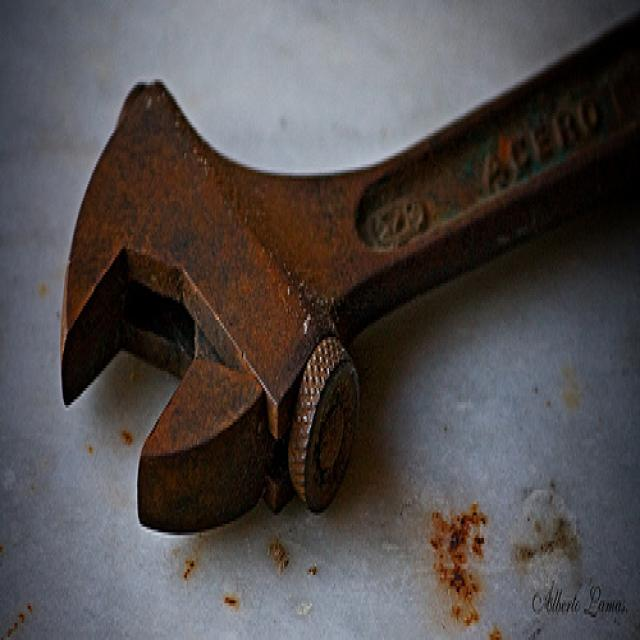wrench: (19, 51, 640, 527)
